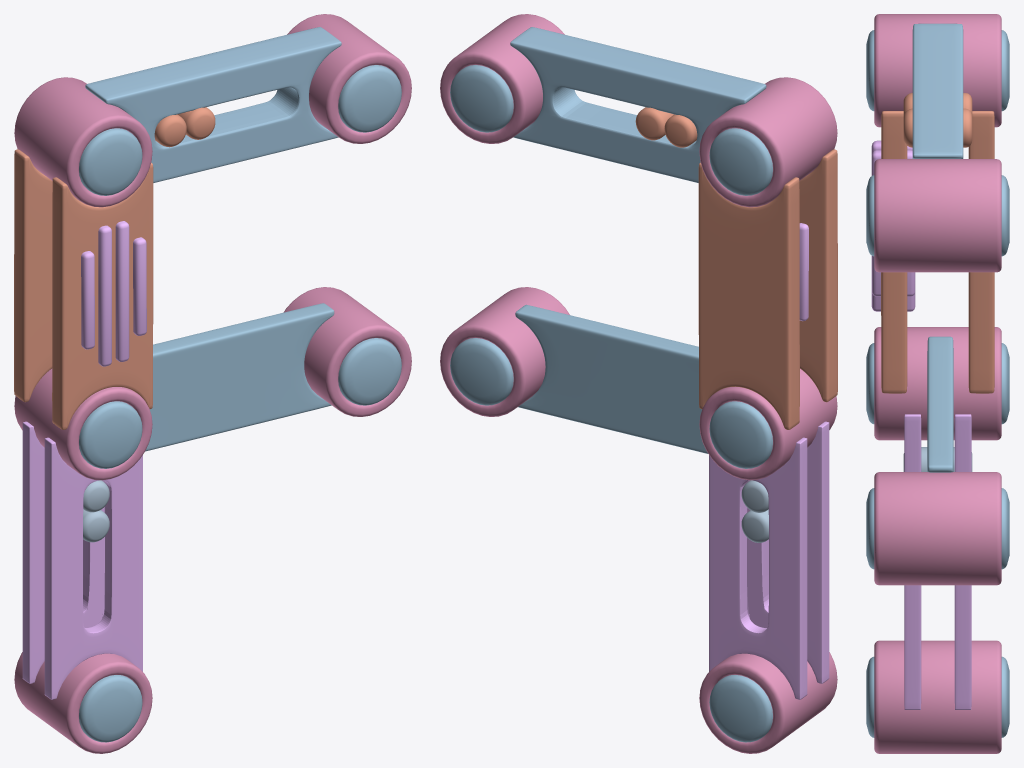
File: Full-Stack.glb
3 views of the same model, side by side, from view 1: azimuth 30°, elevation 25°; view 2: azimuth 150°, elevation 25°; view 3: azimuth 270°, elevation 25° (orthographic). The views are drawn at different scales.
Parts seen in each view (by area): view 1: Cube.014; view 2: Cube.014; view 3: Cube.014.
Part boxes in pixels (x1,y1,x2,y2): Cube.014: (14, 14, 411, 753); Cube.014: (440, 14, 837, 753); Cube.014: (866, 14, 1009, 753).
Bounding box in the file's own units: 1.87 × 3.28 × 0.5799.
